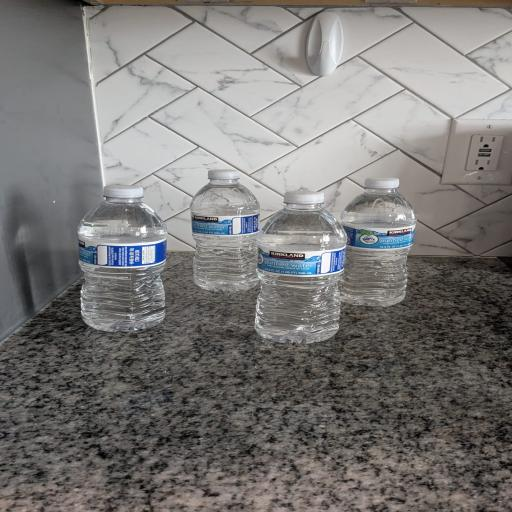waterbottle: (256, 191, 346, 344), (78, 185, 167, 331), (341, 179, 416, 306), (191, 170, 259, 291)
